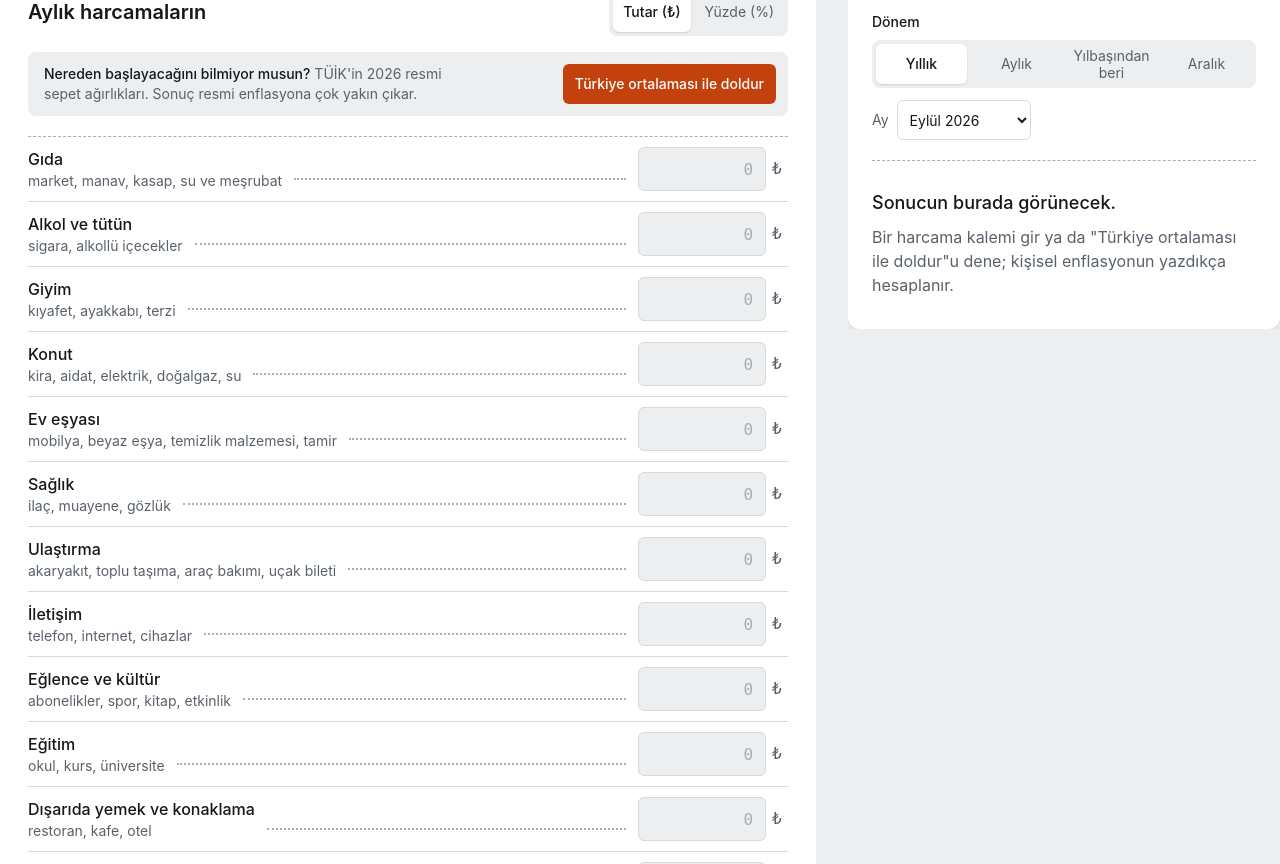
Test: Calculator › sepeti temizler
This screenshot has width=1280, height=864.
In the field labelled "Gıda": (702, 169) [638,147,766,191], type "100"
(page scrolled)
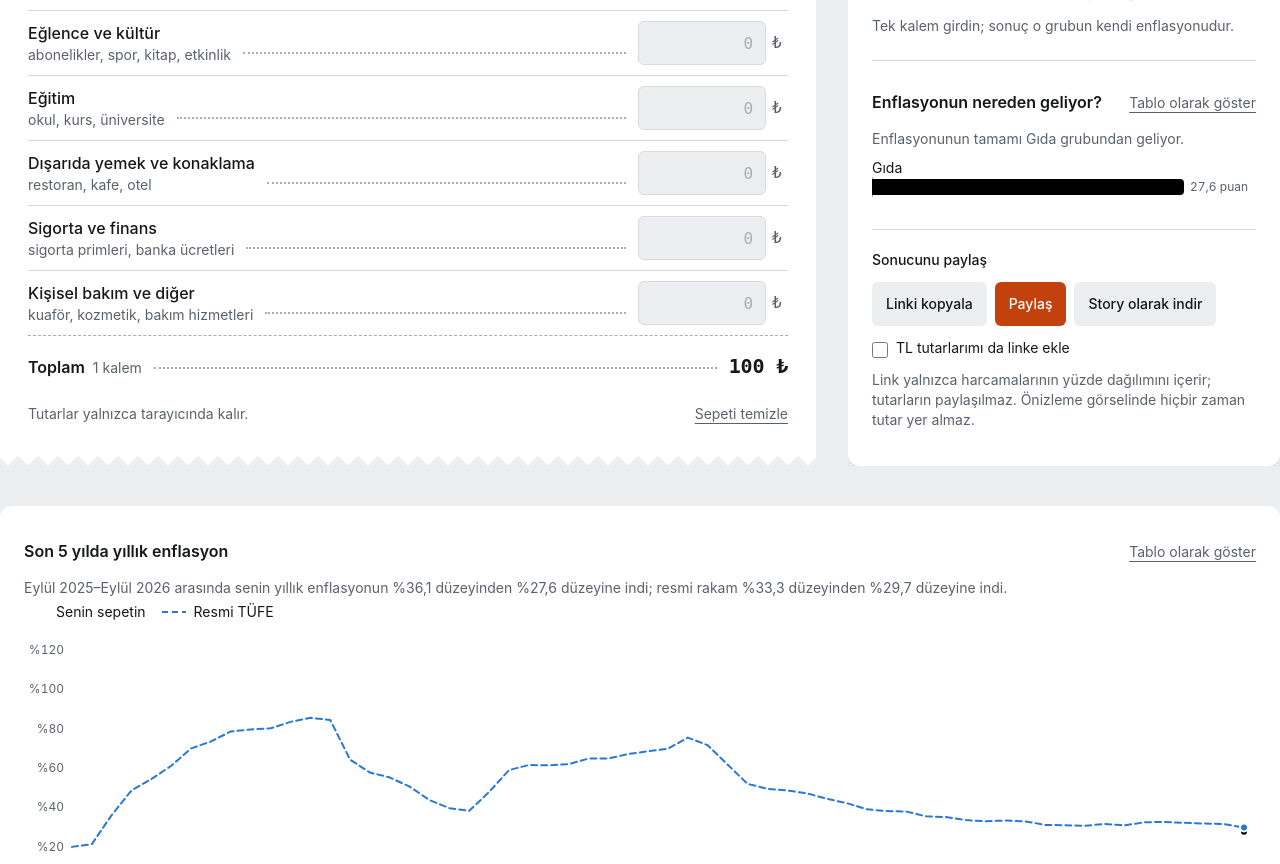
Click the button "Sepeti temizle": (741, 414) [695,392,788,436]
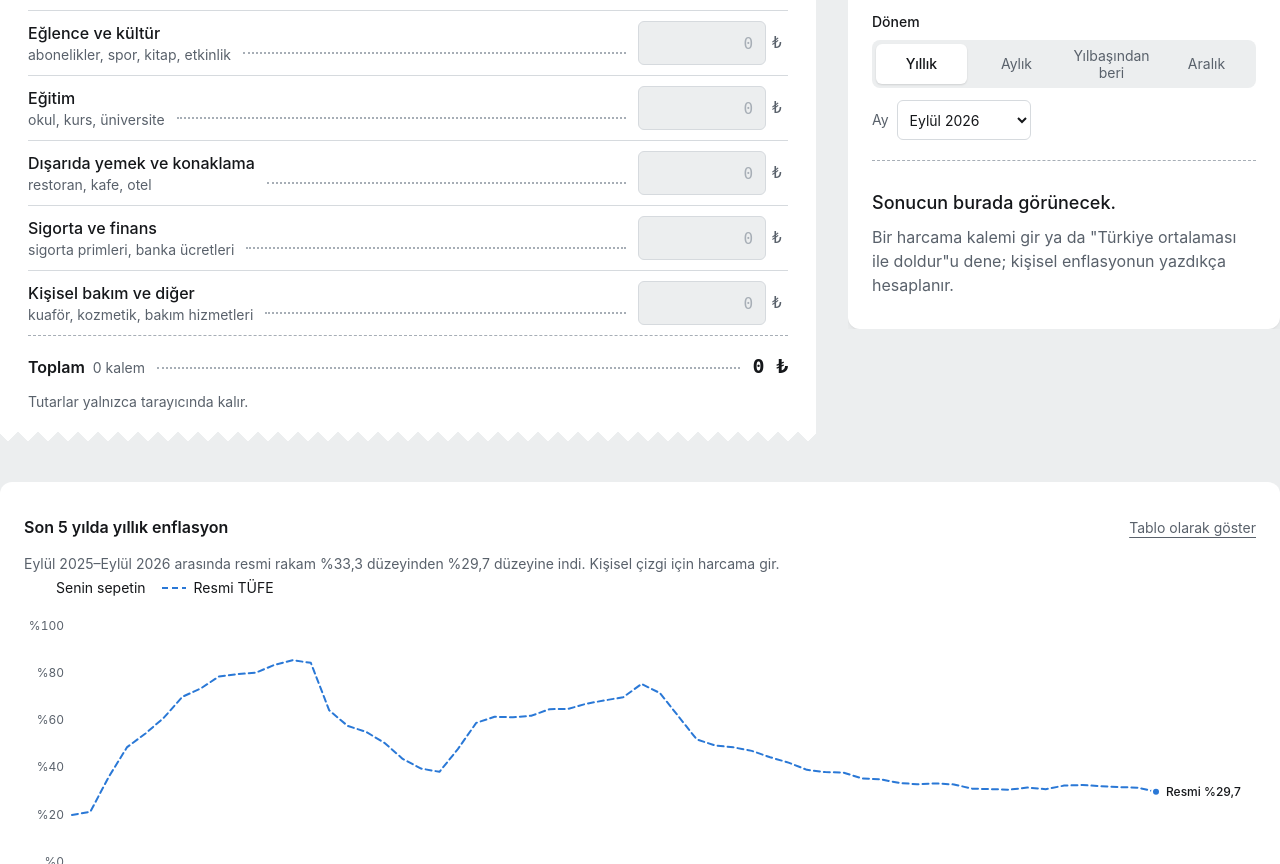
Expected: the text "Bir harcama kalemi gir" is shown, [872,227,1236,295]
